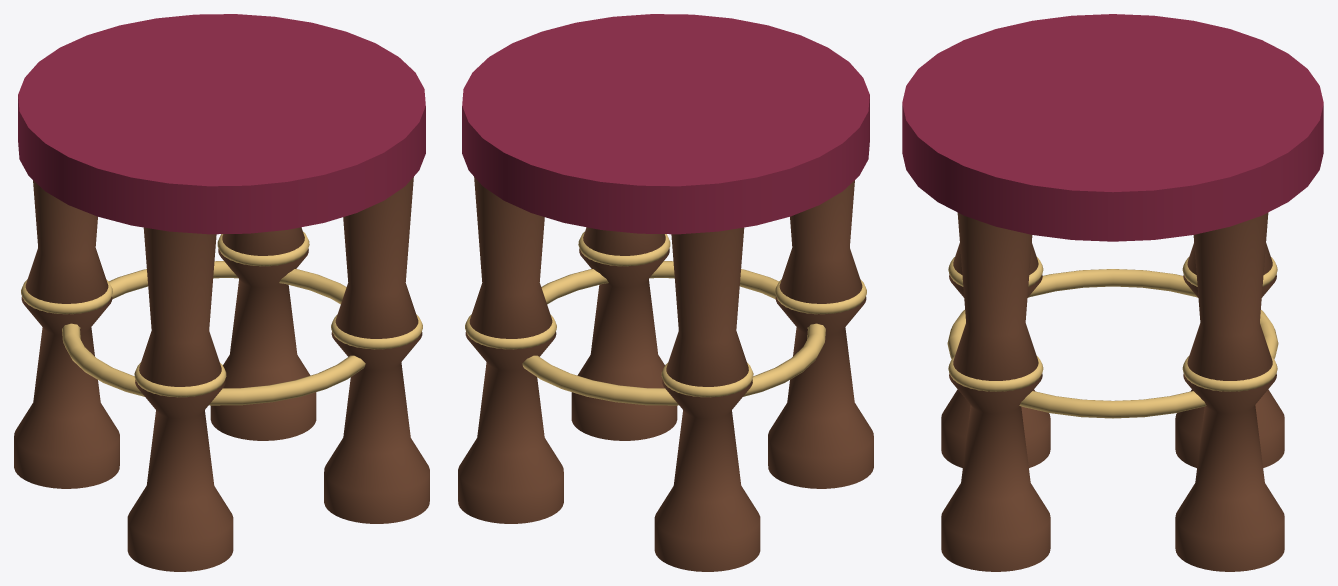
The model's file is royal-court-and-throne-palace-clerks-stool-fded8d36__29395.glb.
3 renders of one model, left to right at view 1: azimuth 30°, elevation 25°; view 2: azimuth 150°, elevation 25°; view 3: azimuth 270°, elevation 25°, orthographic. The views are drawn at different scales.
Parts seen in each view (by area): view 1: clerks-stool; view 2: clerks-stool; view 3: clerks-stool.
Part boxes in pixels (<box>): clerks-stool: <box>14,14,429,571</box>; clerks-stool: <box>458,14,873,571</box>; clerks-stool: <box>902,14,1323,571</box>.
Bounding box in the file's own units: 0.54 × 0.56 × 0.54.
